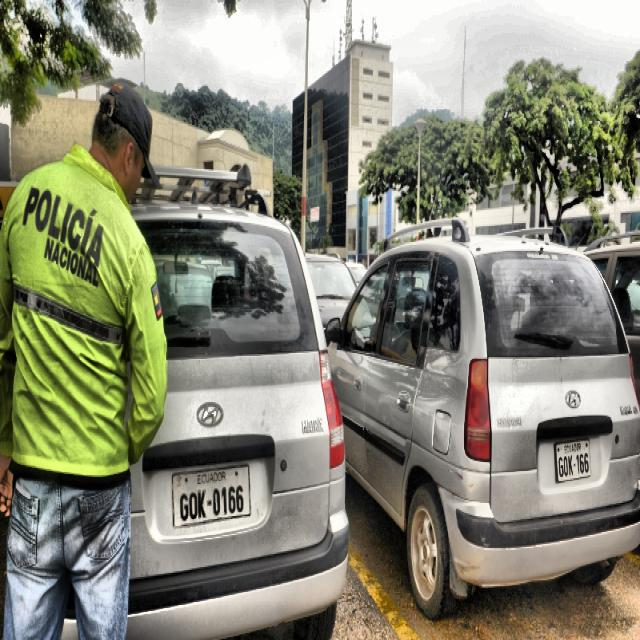license_plate: (169, 460, 254, 532)
